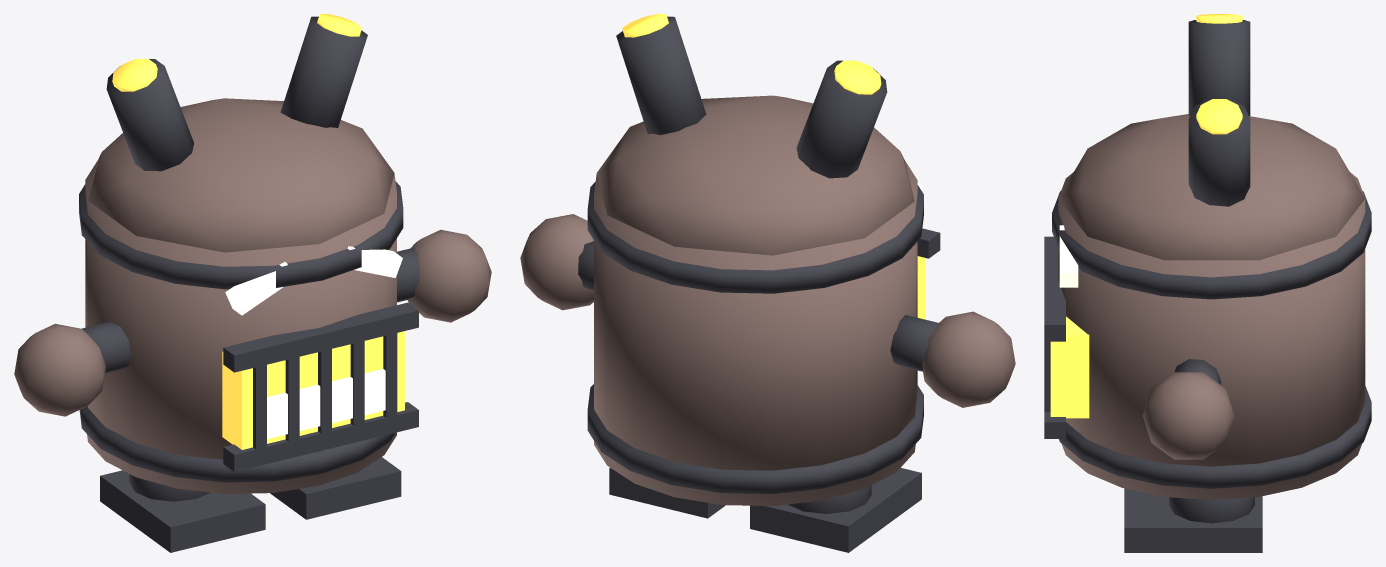
Rendered from furnace.gltf.
3 renders of one model, left to right at view 1: azimuth 30°, elevation 25°; view 2: azimuth 150°, elevation 25°; view 3: azimuth 270°, elevation 25°, orthographic. The views are drawn at different scales.
Visible parts, largest first — view 1: furnace; view 2: furnace; view 3: furnace.
Part boxes in pixels (box(x1,y1,x2,y2)): furnace: box(14, 14, 491, 552); furnace: box(520, 14, 1015, 552); furnace: box(1044, 14, 1371, 552).
Bounding box in the file's own units: 3.41 × 3.16 × 2.13.
